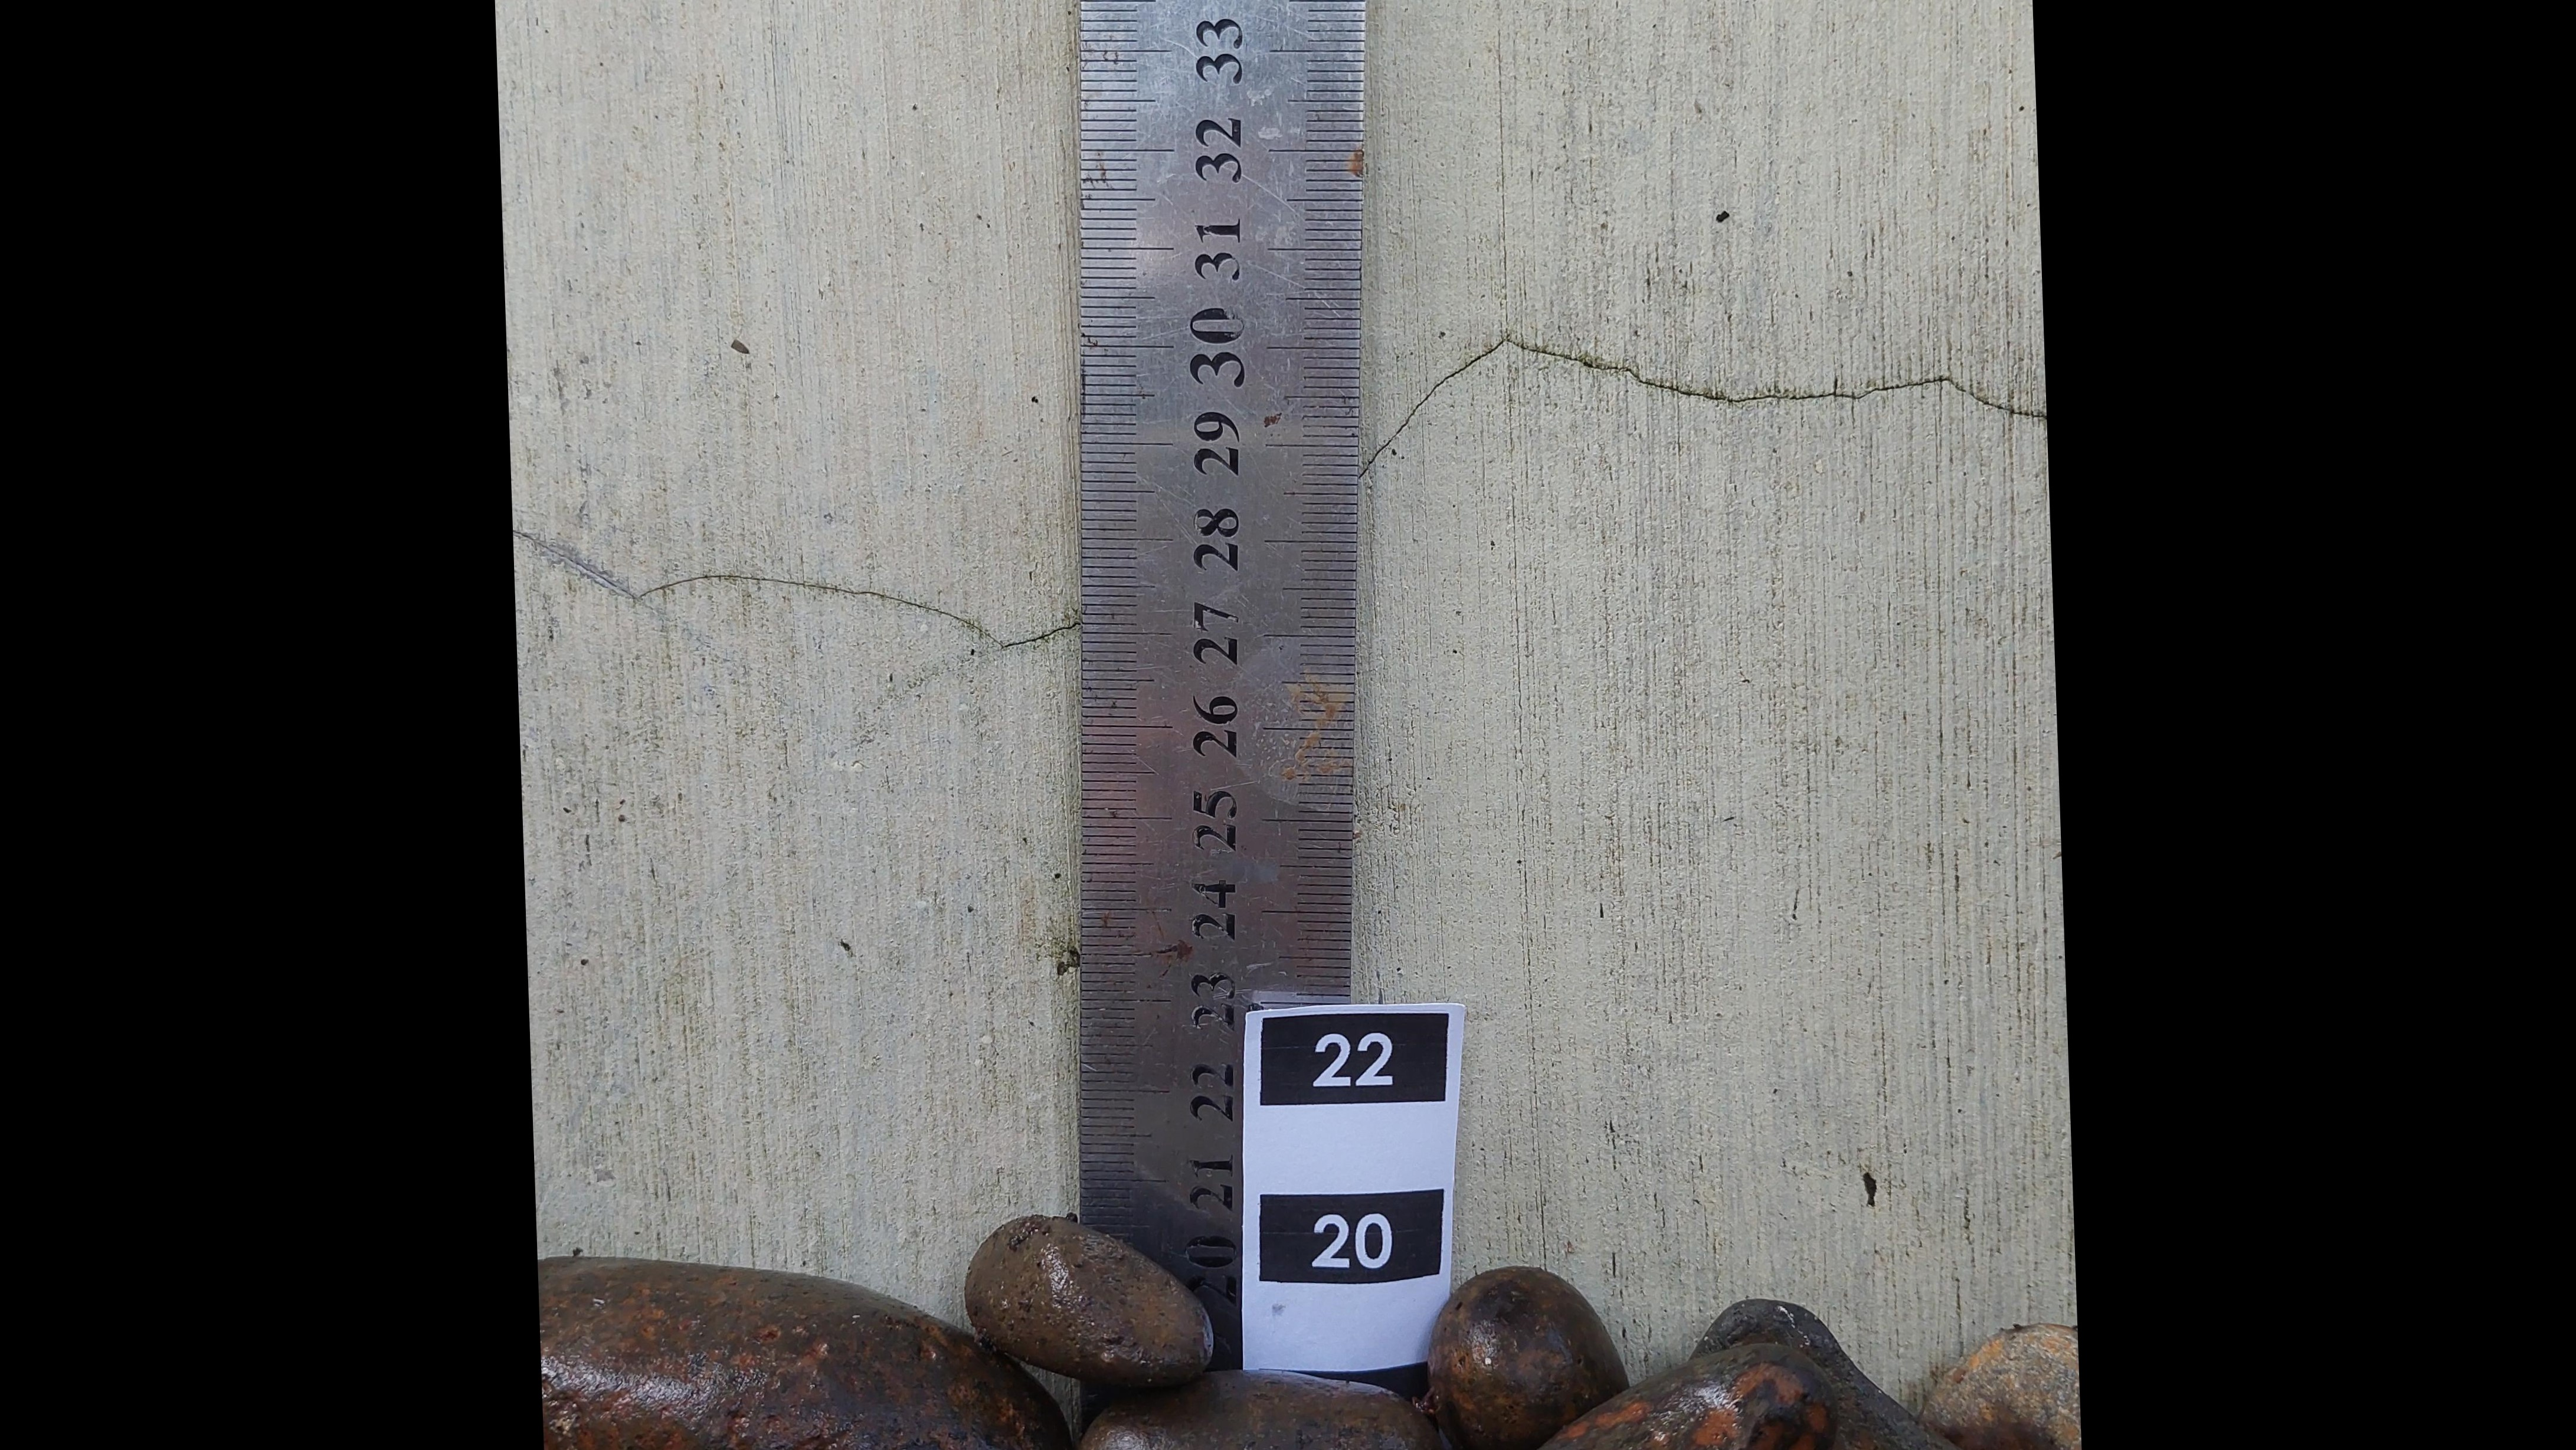kotak_2x1: (1263, 1015, 1449, 1103), (1260, 1194, 1444, 1280)
